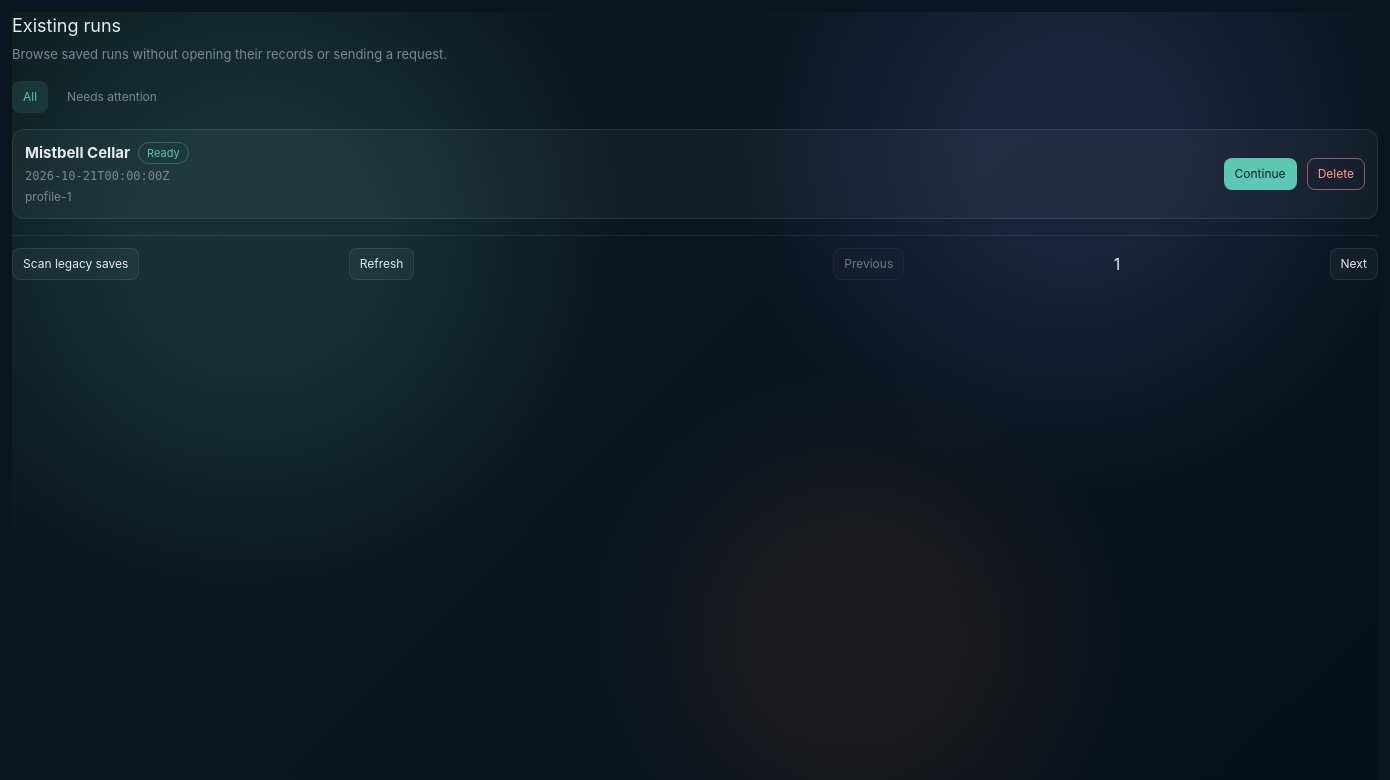
Test: shows an empty-state message when the attention filter excludes every ready run
The width and height of the screenshot is (1390, 780).
Expected: the number of elements with class "run-catalog-row" is 1, [12,128,1378,219]
Click the button "Needs attention".
click(112, 96)  # box [56,80,168,112]
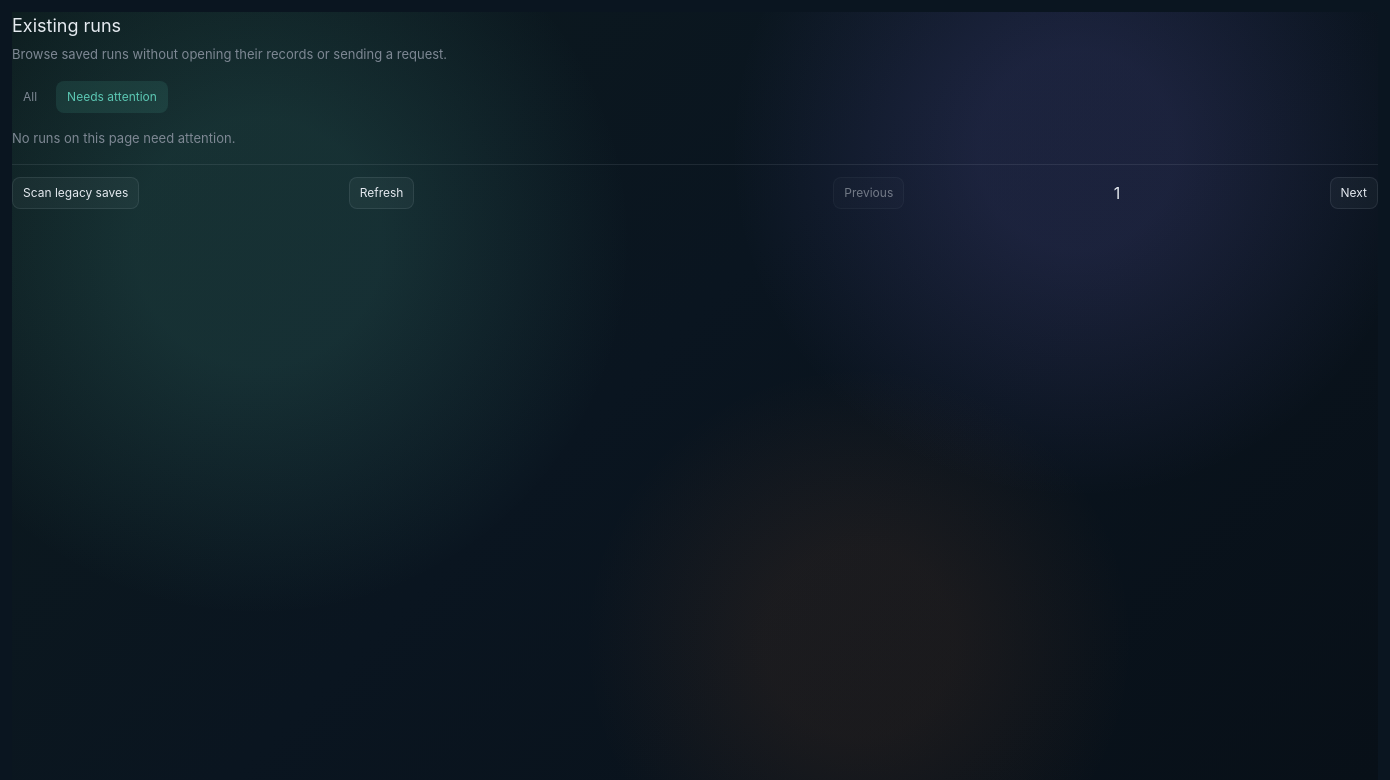
Expected: the button "Next" is enabled, [1330,177,1378,209]
Now no elements with class "run-catalog-row" are shown
Now the text with class "run-catalog-empty" reads "No runs on this page need attention.", box [12,130,235,146]
